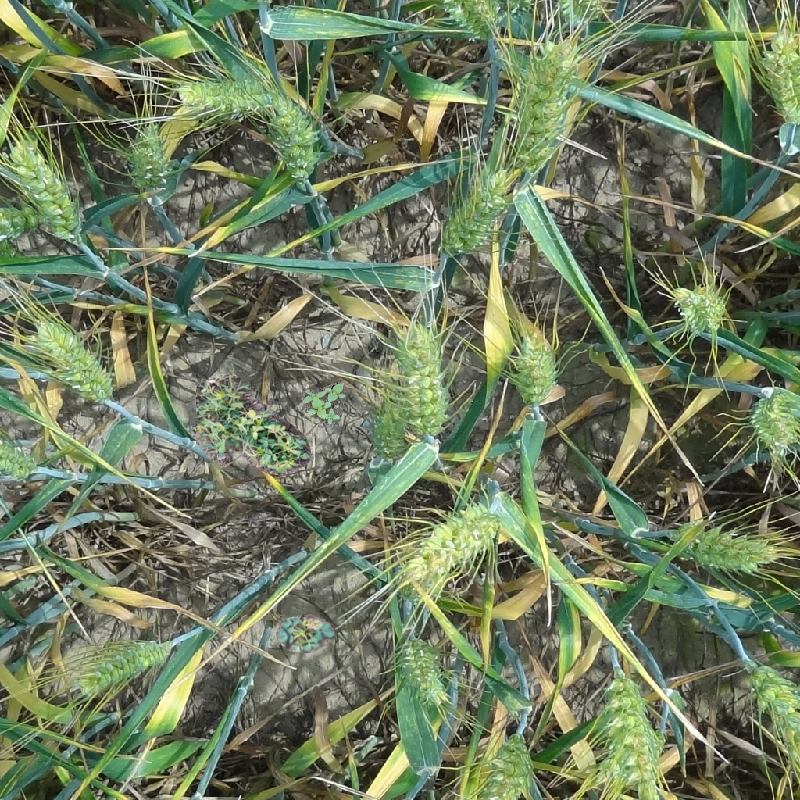spikelet: (526, 41, 586, 178), (402, 503, 501, 585), (8, 139, 85, 240), (32, 317, 116, 403), (600, 670, 659, 786), (442, 166, 517, 255), (70, 635, 173, 696), (676, 519, 783, 573), (741, 658, 800, 751), (404, 326, 448, 437), (464, 733, 534, 799), (267, 91, 316, 182), (762, 32, 800, 126), (399, 635, 449, 706), (514, 330, 558, 407), (749, 384, 800, 450), (178, 77, 268, 113), (672, 283, 726, 335), (129, 136, 171, 190), (455, 1, 499, 40), (1, 436, 37, 478), (1, 203, 38, 239)
weed: (196, 375, 311, 476), (298, 375, 349, 427), (279, 614, 336, 653)
